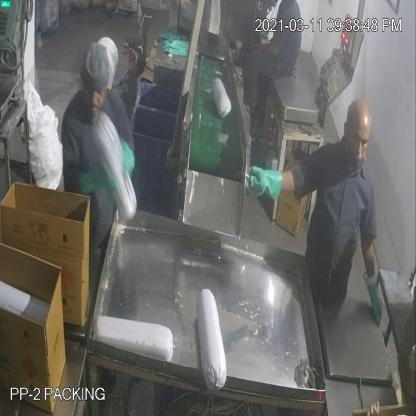glove: (357, 260, 388, 332), (245, 160, 288, 211)
